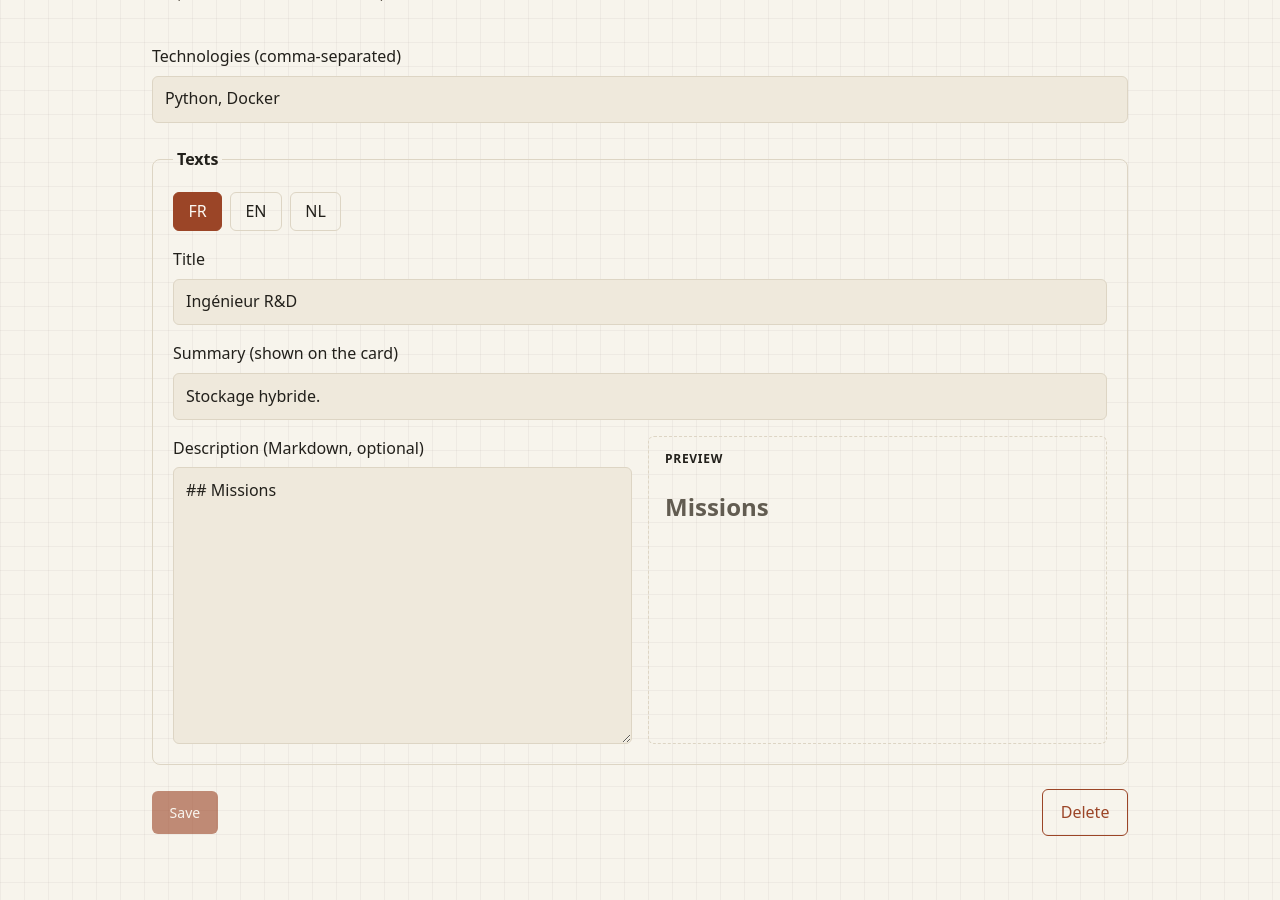
Test: editing an experience › asks before deleting, then goes back to the list
This screenshot has width=1280, height=900.
(page scrolled)
Click the button "Delete" at (1085, 813), box [1042,790,1128,836]
(page scrolled)
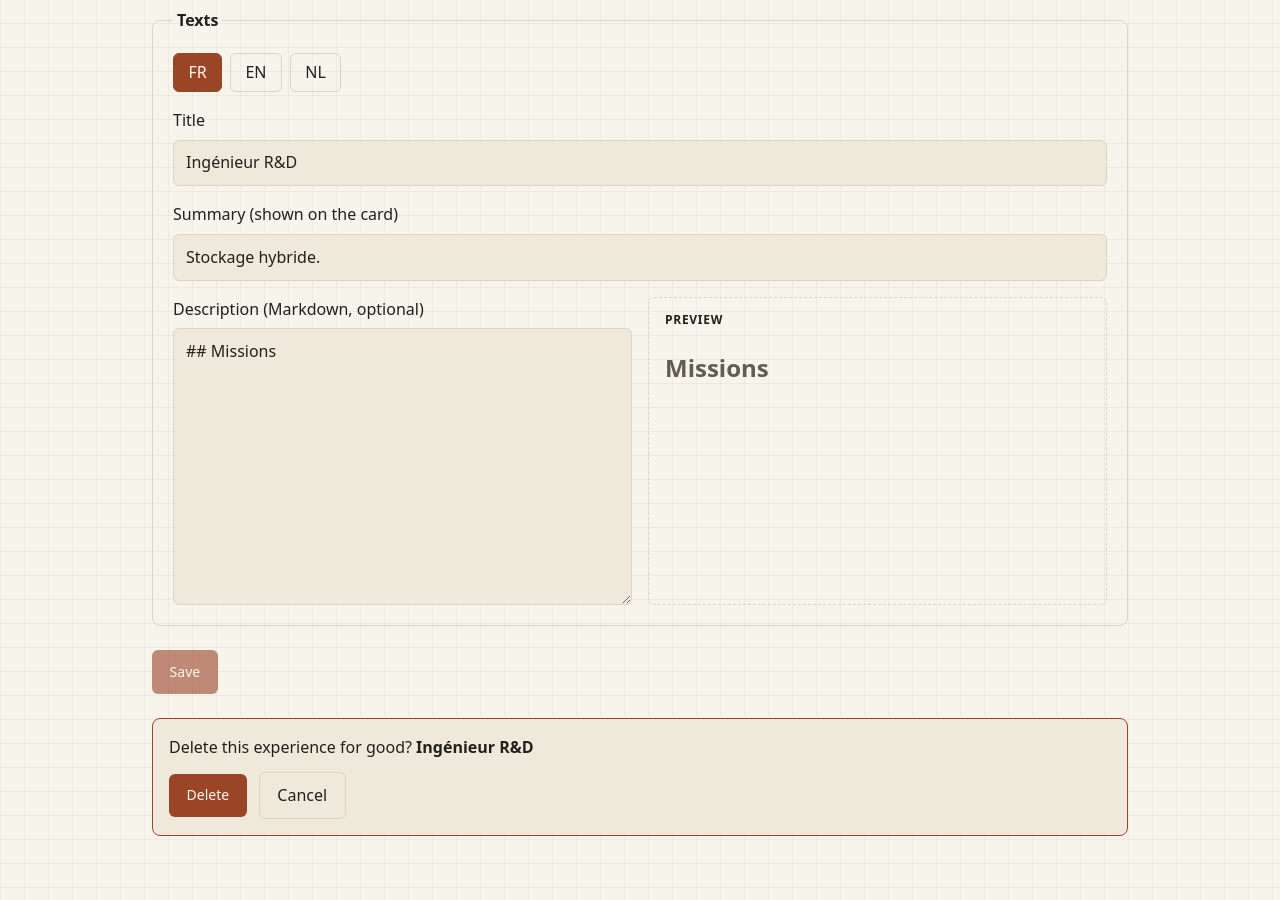
Check: the dialog shows "Ingénieur R&D", box [416,736,534,758]
Click the button "Cancel" at (302, 796), box [259,772,346,819]
(page scrolled)
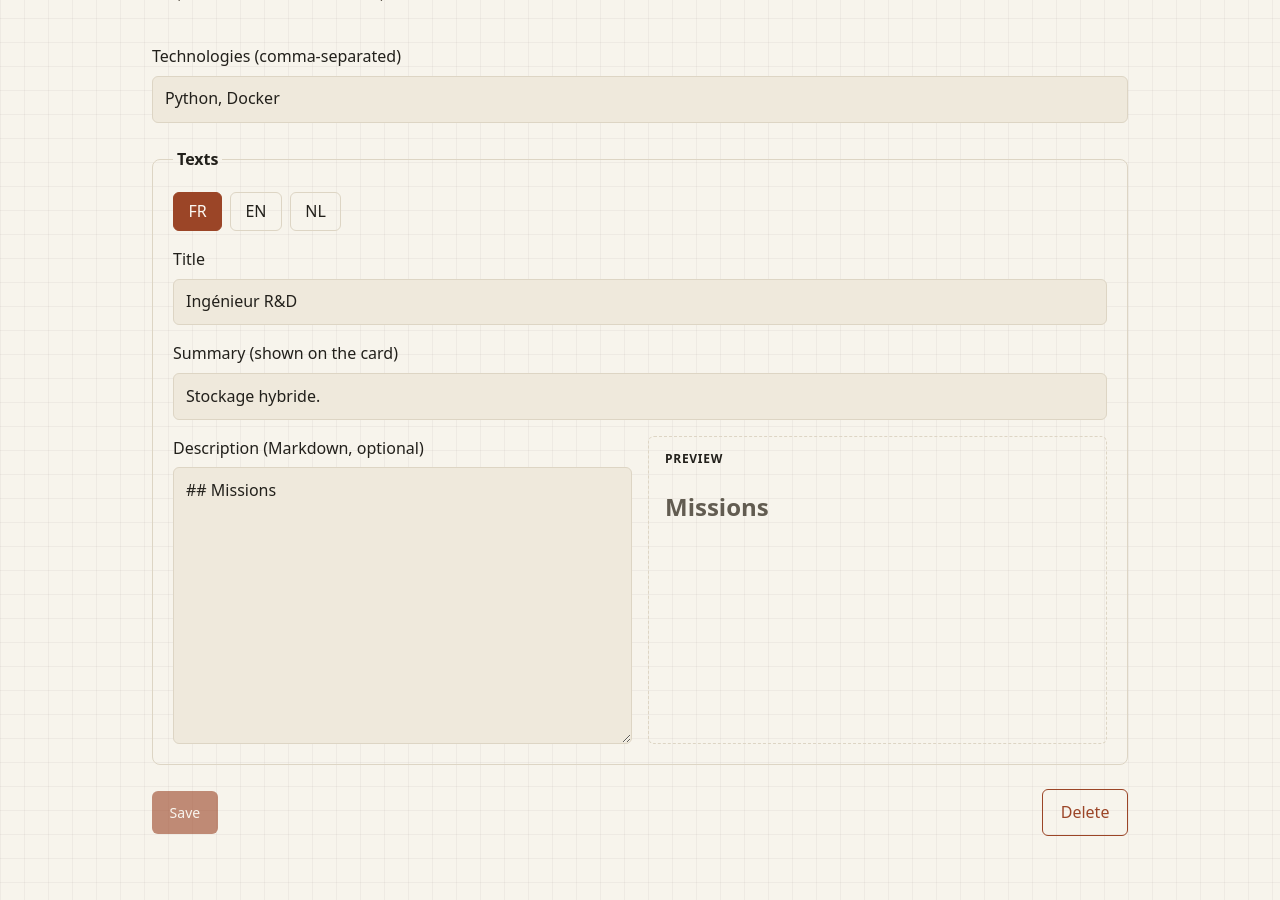
Click the button "Delete" at (1085, 813), box [1042,790,1128,836]
(page scrolled)
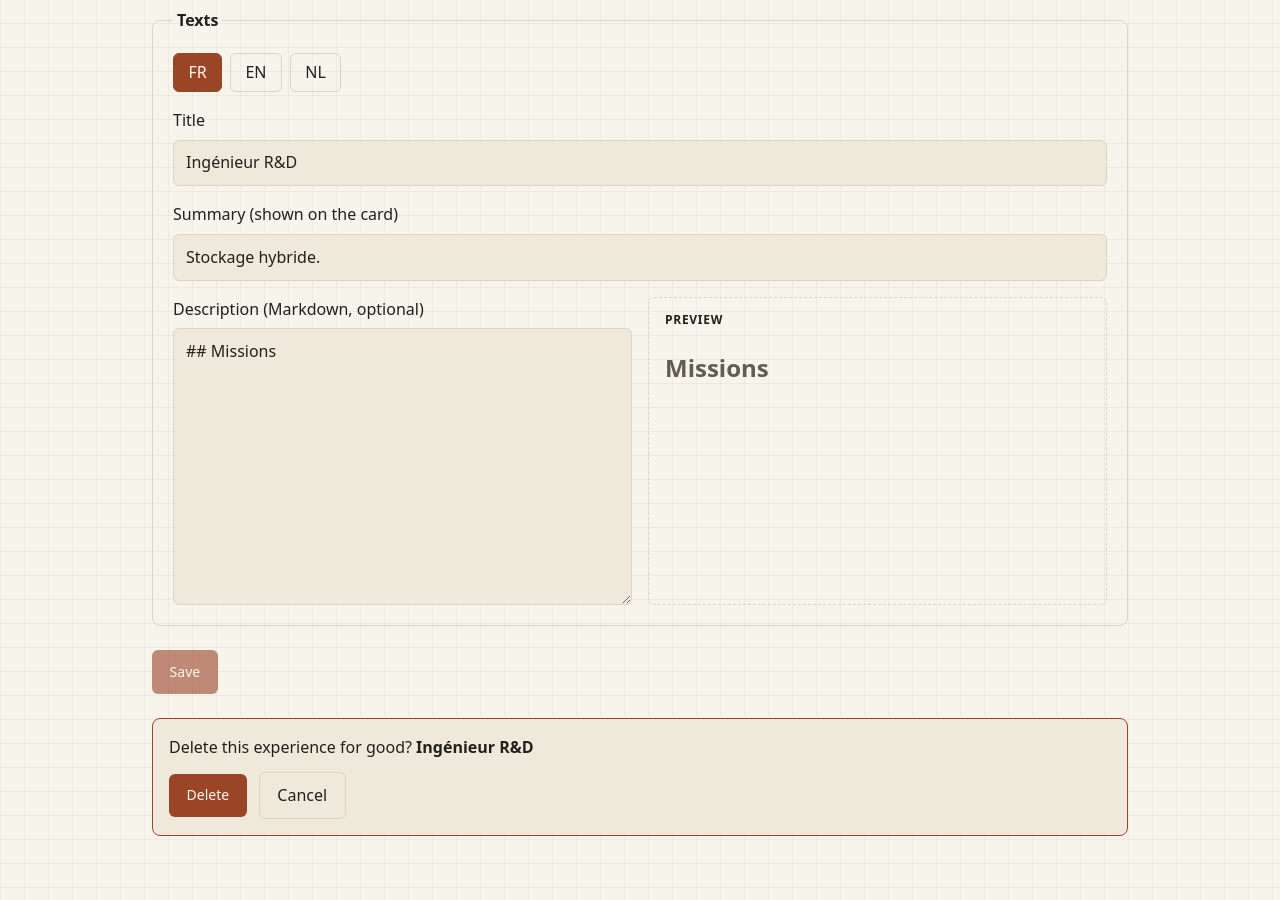
Click the button "Delete" at (208, 796), box [169,774,247,817]
(page scrolled)
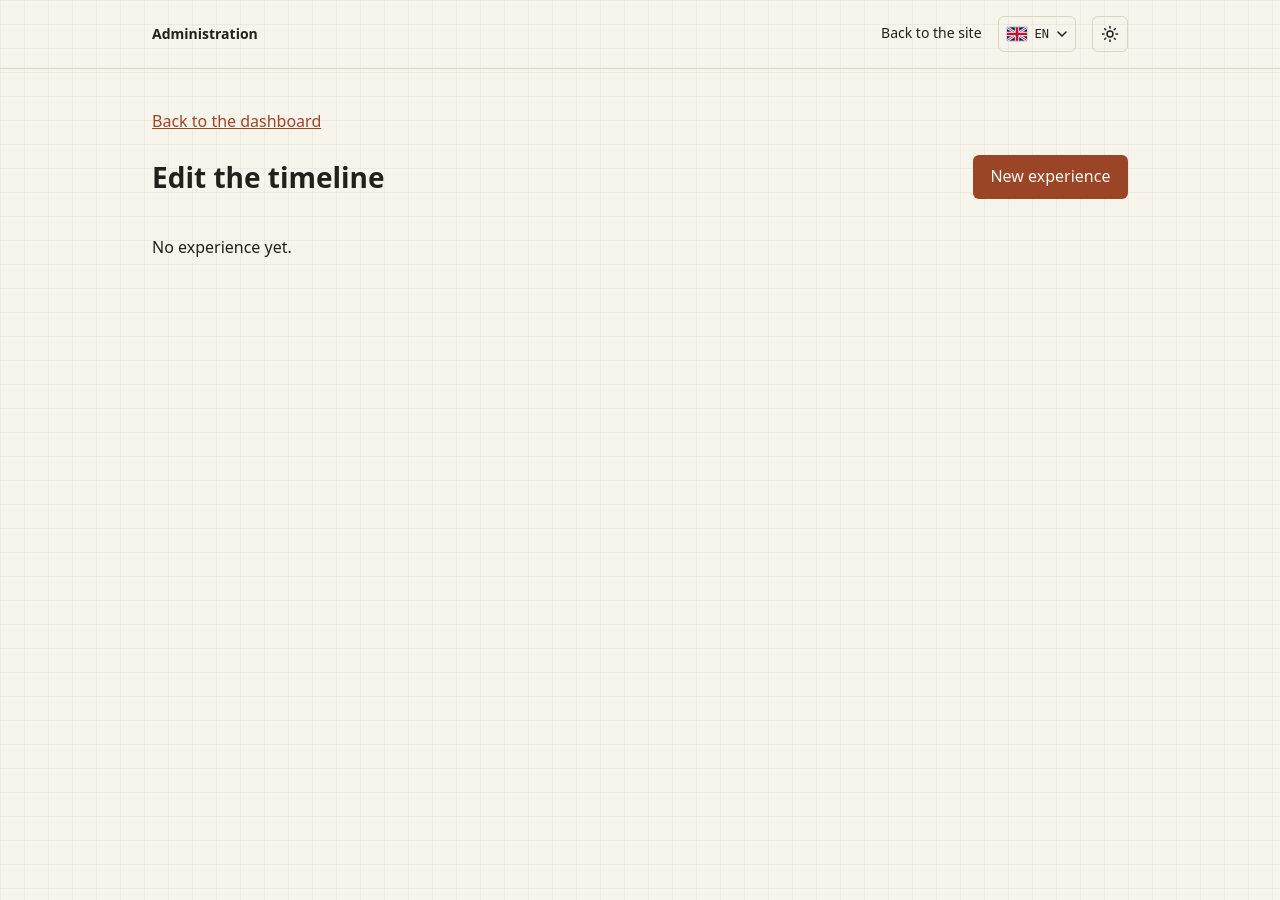
Check: the heading "Edit the timeline" is shown, box [152,155,384,199]
